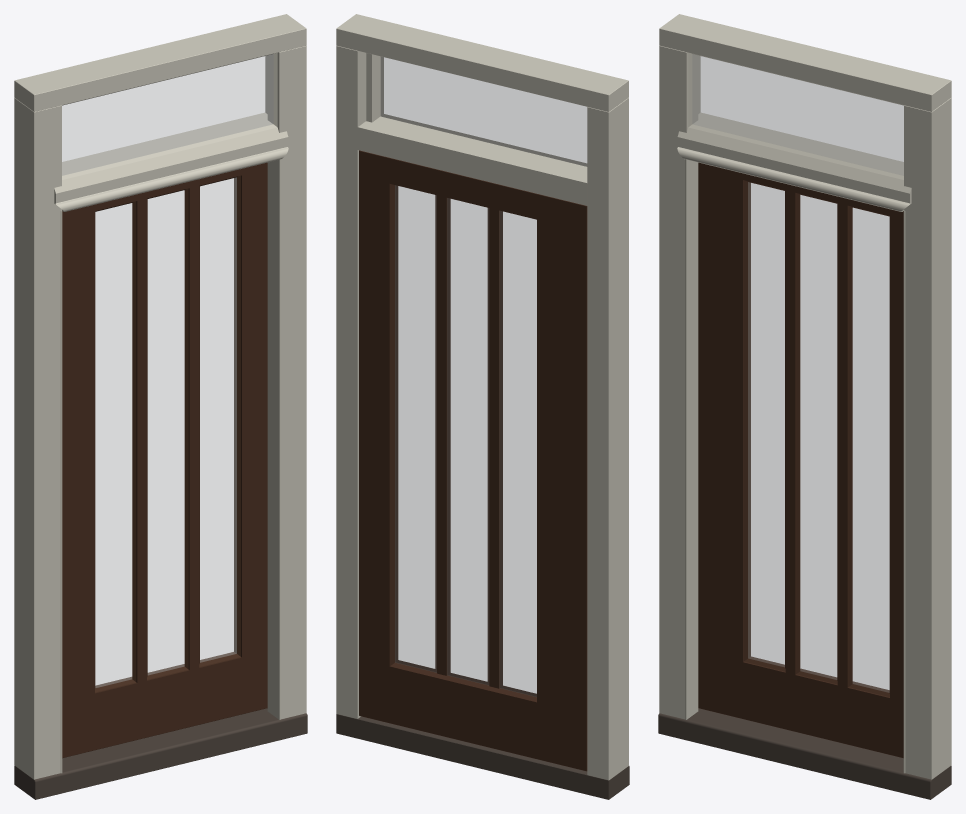
File: door_F4_kept.glb
3 views of the same model, side by side, from view 1: azimuth 30°, elevation 25°; view 2: azimuth 150°, elevation 25°; view 3: azimuth 330°, elevation 25° (orthographic).
Parts seen in each view (by area): view 1: leaf_frame, frame_jamb_L, frame_jamb_R, glass_light2, glass_light3, glass_light1, glass_fanlight, frame_transom, frame_head, stone_threshold, bead_light1, bead_light2 (+4 smaller); view 2: leaf_frame, frame_jamb_L, glass_light2, glass_light3, glass_light1, frame_jamb_R, glass_fanlight, frame_head, frame_transom, stone_threshold, bead_light2, bead_light3 (+2 smaller); view 3: leaf_frame, frame_jamb_R, frame_jamb_L, glass_light1, glass_light2, glass_light3, glass_fanlight, frame_transom, frame_head, stone_threshold, bead_light2, bead_light3 (+4 smaller).
Boxes of the visible parts, left/top/right/bottom form: leaf_frame: left=62, top=162, right=267, bottom=758; frame_jamb_L: left=14, top=97, right=61, bottom=779; frame_jamb_R: left=265, top=45, right=306, bottom=719; glass_light2: left=148, top=190, right=184, bottom=675; glass_light3: left=200, top=177, right=236, bottom=662; glass_light1: left=95, top=203, right=131, bottom=687; glass_fanlight: left=62, top=54, right=273, bottom=175; frame_transom: left=54, top=112, right=288, bottom=211; frame_head: left=14, top=14, right=306, bottom=111; stone_threshold: left=14, top=708, right=307, bottom=799; bead_light1: left=95, top=201, right=136, bottom=692; bead_light2: left=147, top=188, right=188, bottom=679; leaf_frame: left=359, top=150, right=587, bottom=771; frame_jamb_L: left=587, top=98, right=628, bottom=780; glass_light2: left=447, top=198, right=488, bottom=685; glass_light3: left=395, top=185, right=436, bottom=672; glass_light1: left=500, top=211, right=536, bottom=696; frame_jamb_R: left=336, top=45, right=380, bottom=718; glass_fanlight: left=381, top=57, right=586, bottom=166; frame_head: left=336, top=14, right=628, bottom=111; frame_transom: left=357, top=116, right=587, bottom=205; stone_threshold: left=336, top=714, right=629, bottom=799; bead_light2: left=447, top=198, right=489, bottom=684; bead_light3: left=395, top=185, right=436, bottom=672; leaf_frame: left=698, top=162, right=903, bottom=758; frame_jamb_R: left=904, top=97, right=951, bottom=779; frame_jamb_L: left=659, top=45, right=700, bottom=719; glass_light1: left=748, top=182, right=784, bottom=666; glass_light2: left=800, top=195, right=836, bottom=679; glass_light3: left=853, top=208, right=889, bottom=692; glass_fanlight: left=692, top=54, right=903, bottom=175; frame_transom: left=677, top=112, right=911, bottom=211; frame_head: left=659, top=14, right=951, bottom=111; stone_threshold: left=658, top=708, right=951, bottom=799; bead_light2: left=796, top=193, right=837, bottom=684; bead_light3: left=848, top=206, right=889, bottom=696.
Size of the model in its own units: 1 by 2.47 by 0.149.
